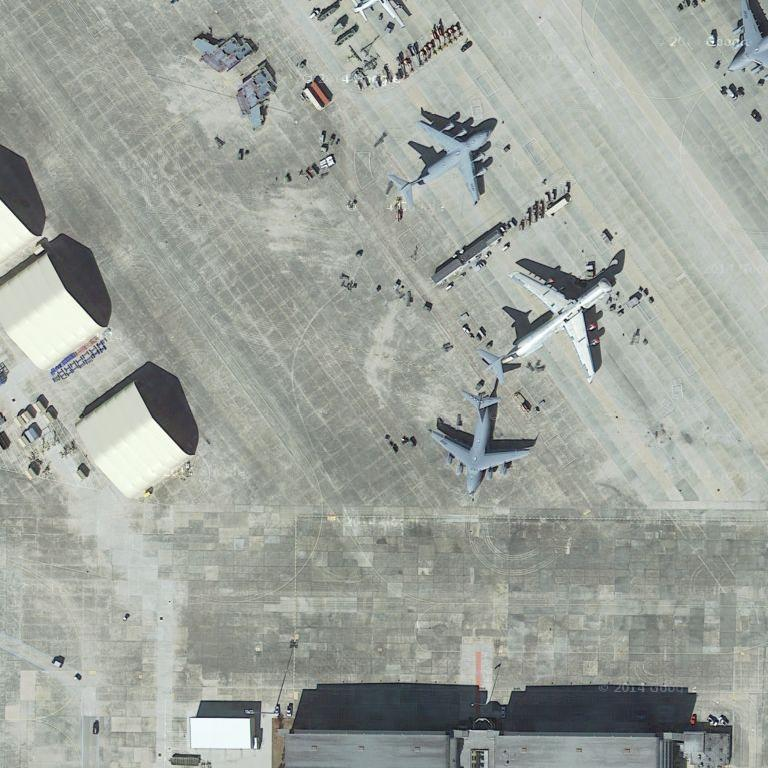C-17: (479, 270, 611, 381), (379, 118, 492, 213)
E-8: (424, 390, 535, 493)
